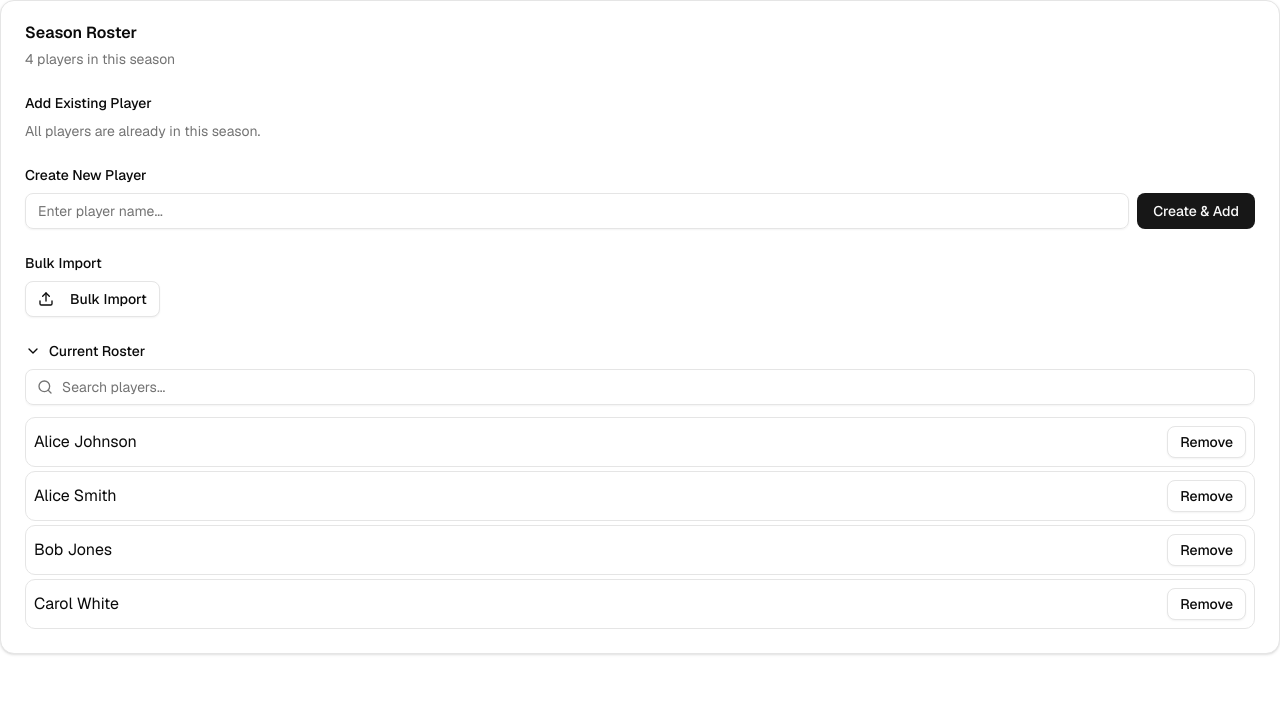
Test case: RosterManager - Player Search › search is case-insensitive (uppercase query)
This screenshot has width=1280, height=720.
Type "ALICE" into the field with test id "player-search-input" at (640, 387), box [25,369,1255,405]
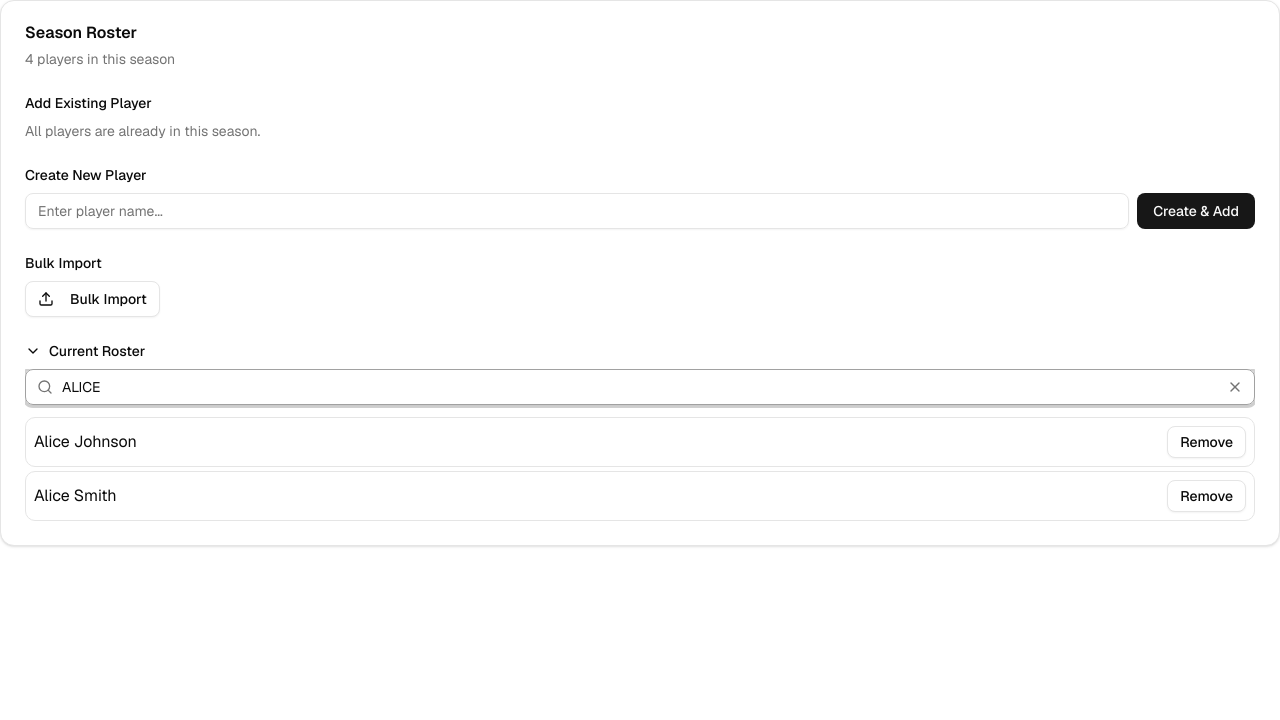
Expected: the link "Alice Smith" is shown, [34,484,117,508]
Now the link "Bob Jones" is gone
